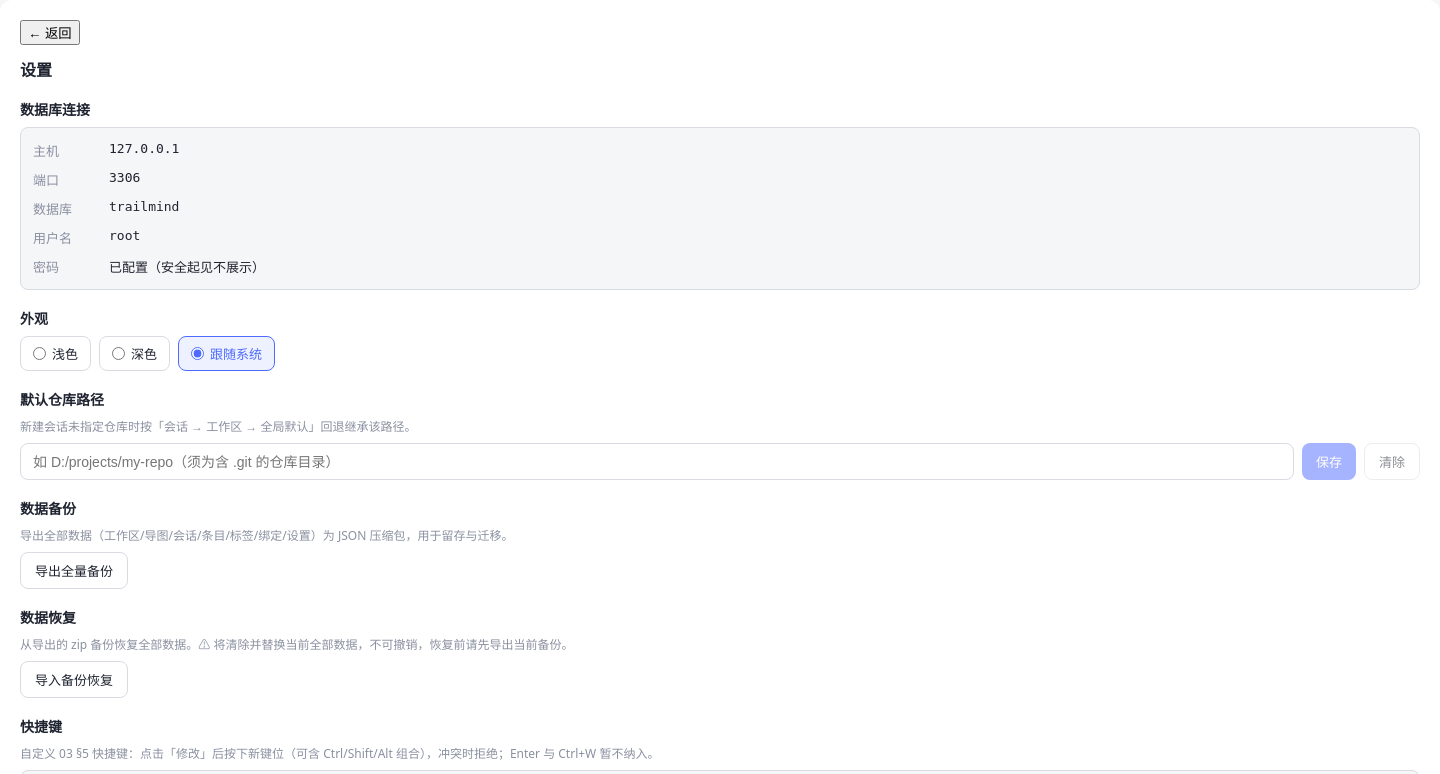
Test case: SettingsPanel 设置页（M4 任务四） › 保存失败展示错误信息
The image size is (1440, 774).
Check: the text "127.0.0.1" is shown, box left=109, top=141, right=180, bottom=160
In the field named "默认仓库路径": [657, 462] box left=20, top=443, right=1294, bottom=480, type "X:/nope"
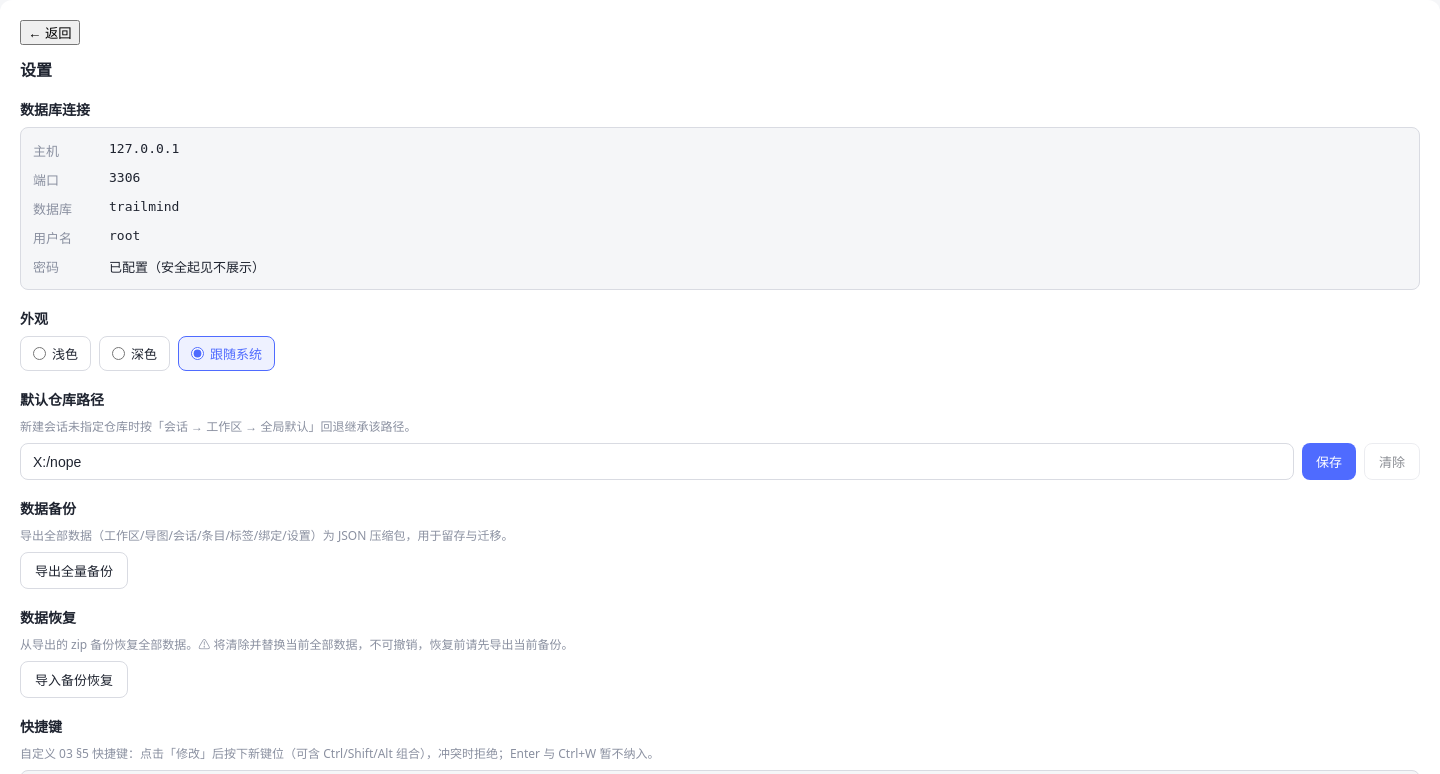
Click the button "保存": [1329, 462] box left=1302, top=443, right=1356, bottom=480
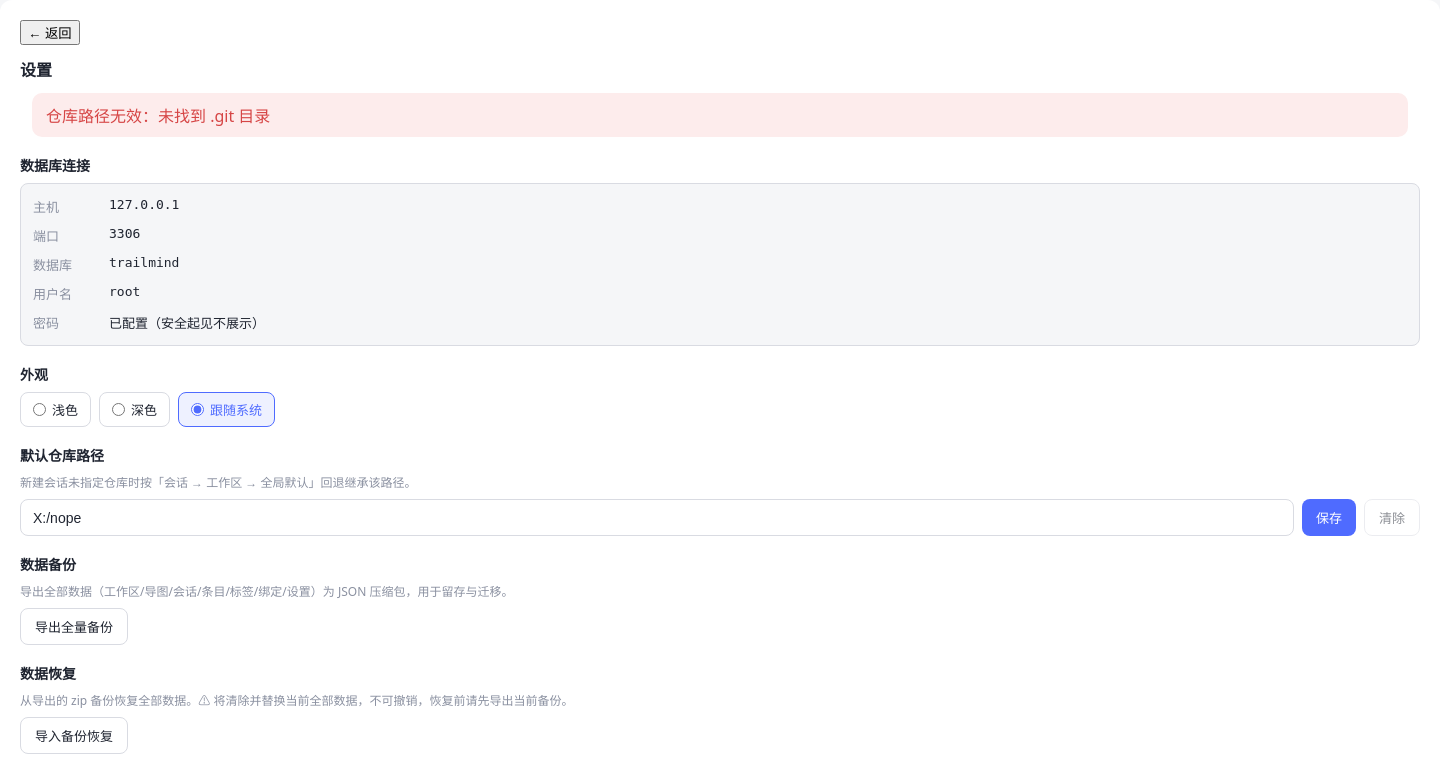
Check: the message reads "仓库路径无效：未找到 .git 目录", box left=46, top=105, right=270, bottom=127
